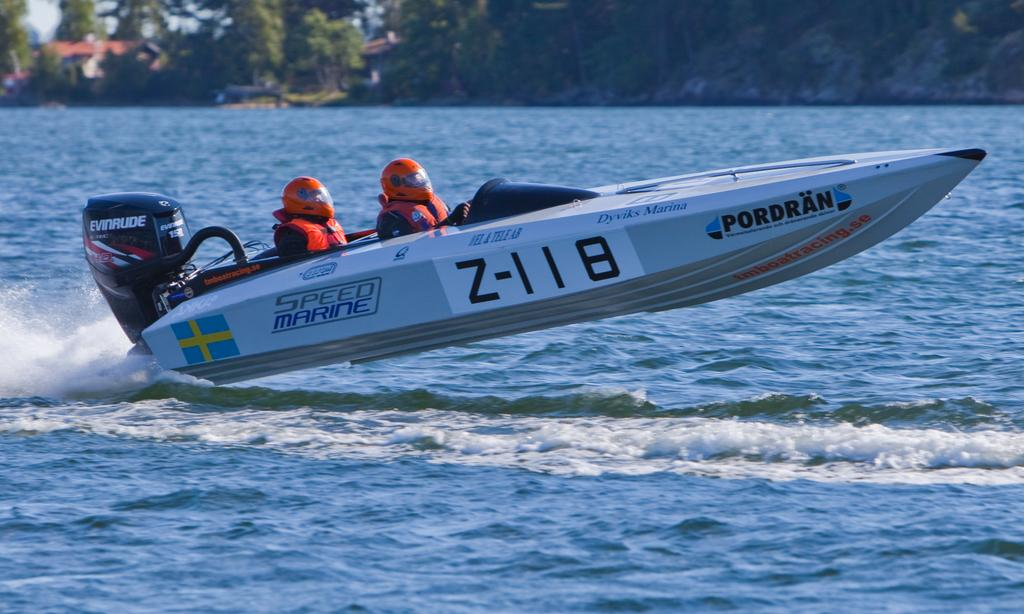helmet: (380, 158, 434, 201), (281, 176, 335, 218)
